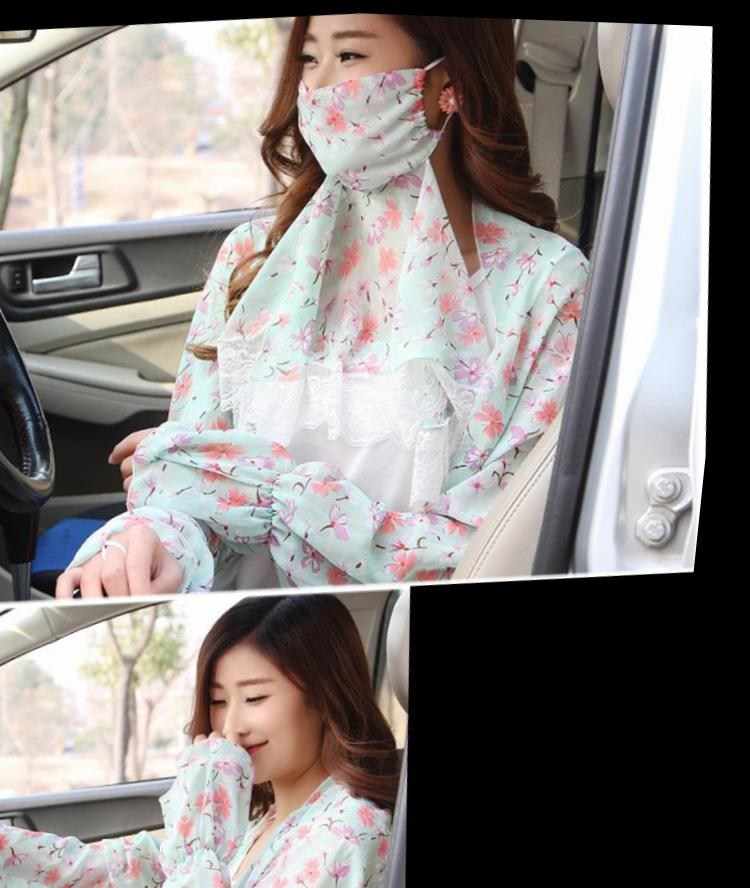NONE: (203, 664, 338, 792)
WRONG: (270, 12, 449, 183)
